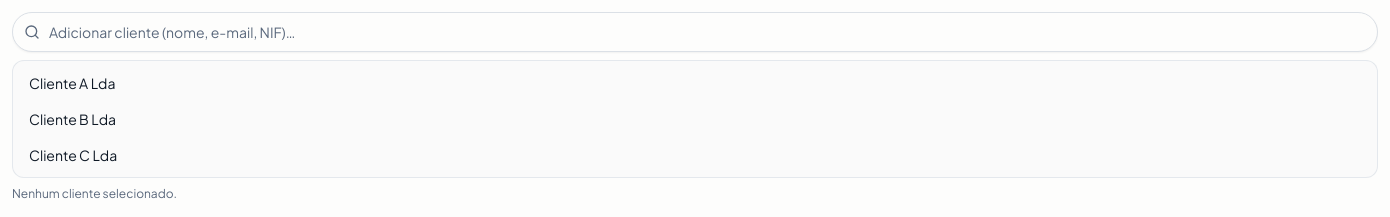
Test: ClientMultiSelect › adiciona clientes à seleção ao clicar nos resultados da busca, sem duplicar
Step 1. Click the button "Cliente A Lda" → (72, 83), box [17, 65, 1373, 101]
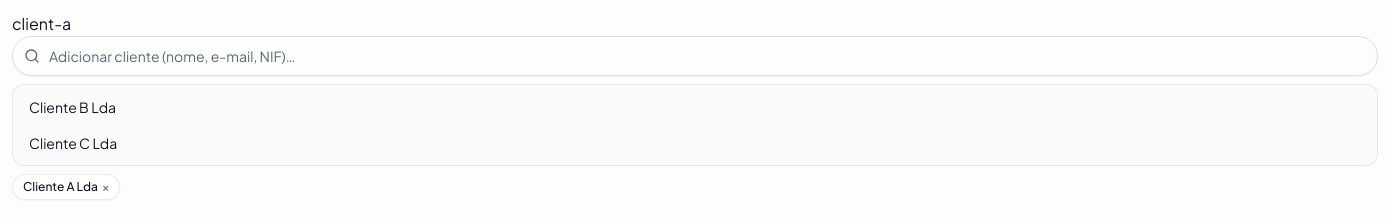
Expected: the text with test id "selected" reads "client-a", [12, 13, 71, 34]
Step 2. Click the button "Cliente B Lda" → (72, 107), box [17, 89, 1373, 125]
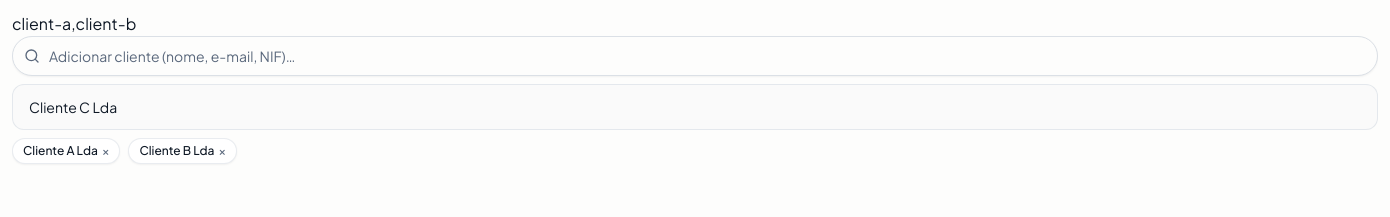
Expected: the text with test id "selected" reads "client-a,client-b", [12, 13, 136, 34]
